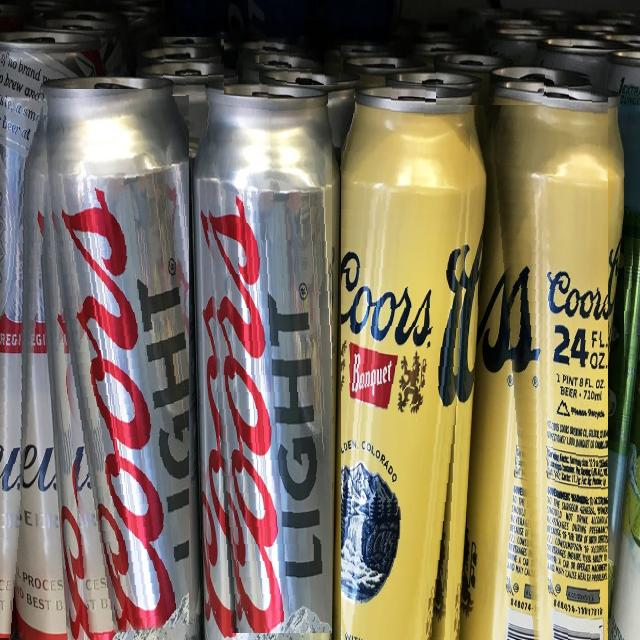Cans: (42, 89, 190, 636), (199, 79, 332, 633), (341, 83, 473, 640), (488, 72, 608, 640), (0, 40, 59, 638), (624, 98, 640, 640), (436, 41, 548, 106), (152, 38, 224, 98), (259, 38, 341, 86)
